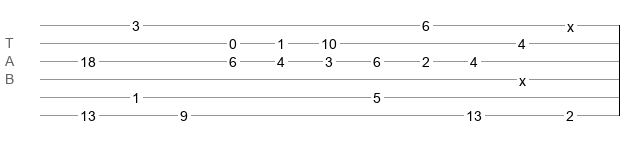0: (229, 36, 237, 46)
1: (132, 90, 140, 100), (277, 36, 285, 46)
10: (321, 36, 337, 46)
13: (80, 108, 96, 118), (466, 108, 482, 118)
18: (80, 54, 96, 64)
2: (422, 54, 430, 64), (566, 108, 574, 118)
3: (132, 18, 140, 28), (325, 54, 333, 64)
4: (277, 54, 285, 64), (470, 54, 478, 64), (518, 36, 526, 46)
5: (373, 90, 381, 100)
6: (229, 54, 237, 64), (373, 54, 381, 64), (422, 18, 430, 28)
9: (180, 108, 188, 118)
x: (519, 73, 526, 81), (567, 19, 574, 27)
